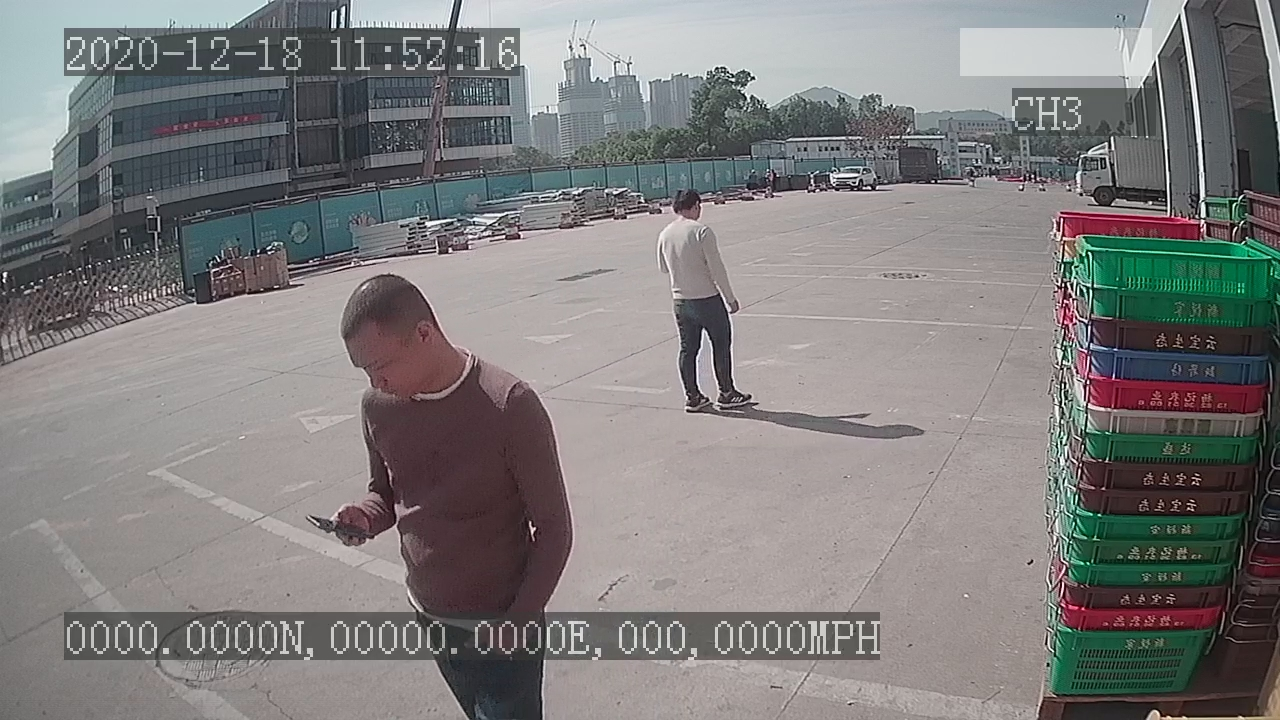person: (651, 186, 761, 417)
